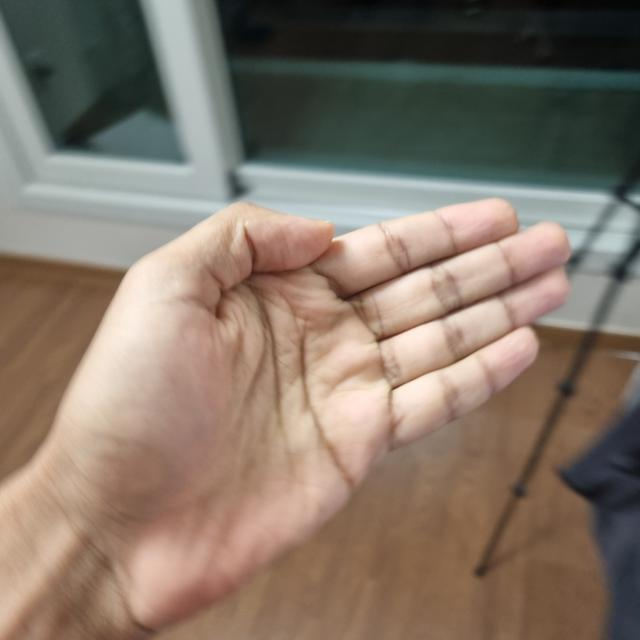Paper: (48, 209, 386, 618)
